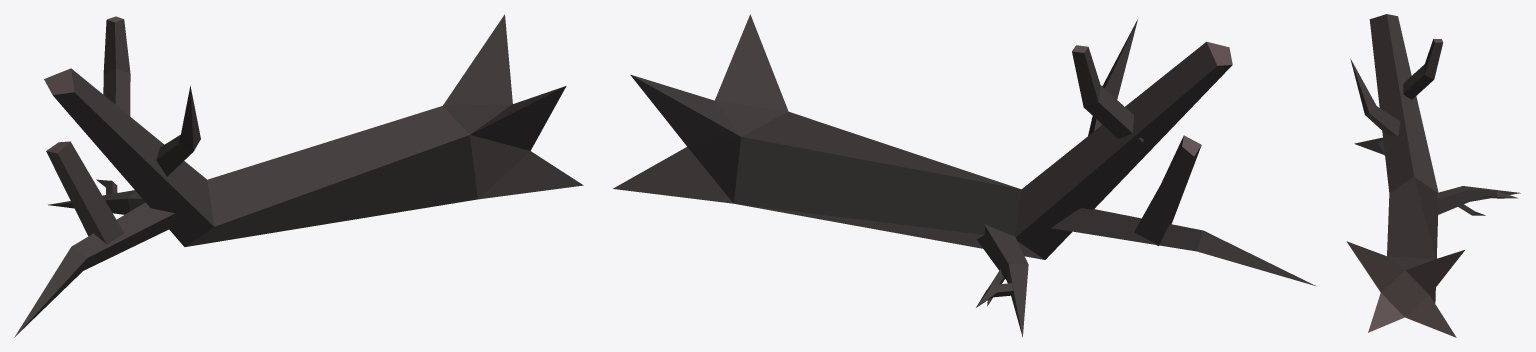
The model's file is TB_D_Env_DeadTreeD_C.FBX.
3 views of the same model, side by side, from view 1: azimuth 30°, elevation 25°; view 2: azimuth 150°, elevation 25°; view 3: azimuth 270°, elevation 25° (orthographic). The views are drawn at different scales.
Visible parts, largest first — view 1: TB_D_Env_DeadTreeD_C; view 2: TB_D_Env_DeadTreeD_C; view 3: TB_D_Env_DeadTreeD_C.
Part boxes in pixels (bbox=[...]): TB_D_Env_DeadTreeD_C: bbox=[14, 14, 583, 337]; TB_D_Env_DeadTreeD_C: bbox=[613, 14, 1316, 337]; TB_D_Env_DeadTreeD_C: bbox=[1346, 14, 1520, 337].
Bounding box in the file's own units: 7.09 × 2.65 × 2.67.
